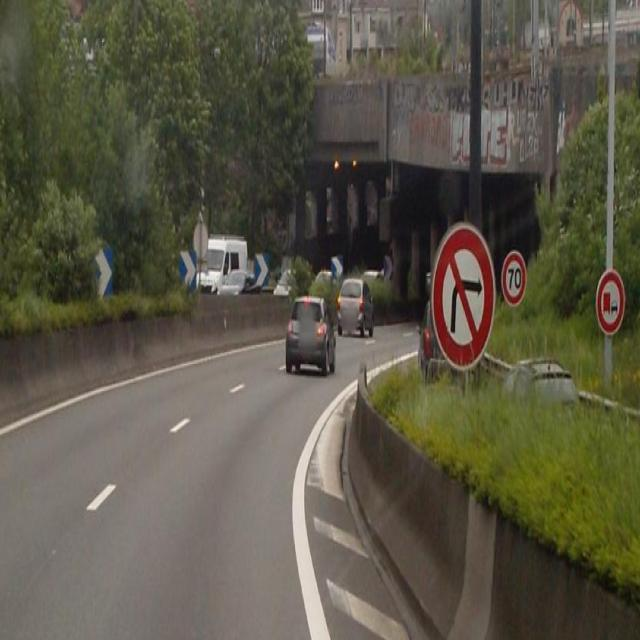speed_70: (501, 250, 527, 308)
